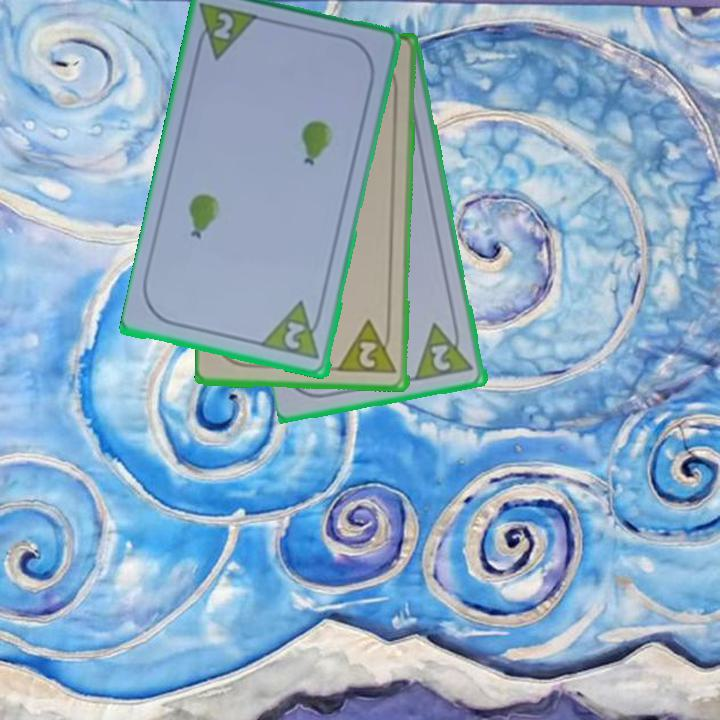2p: (336, 317, 400, 378), (281, 318, 308, 353), (210, 9, 237, 44), (427, 341, 454, 374)
